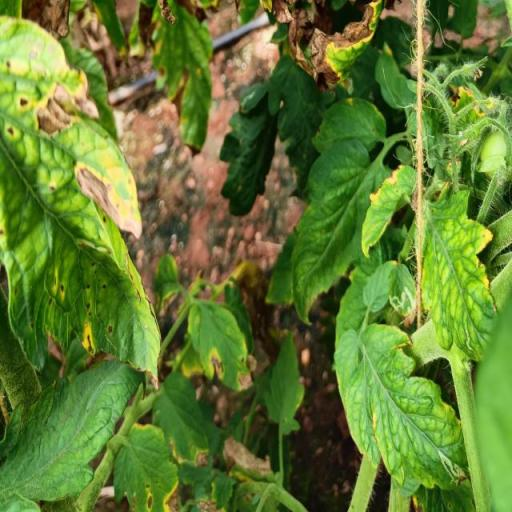disease_tomato: (0, 18, 166, 392), (112, 423, 186, 512), (187, 296, 255, 392)
